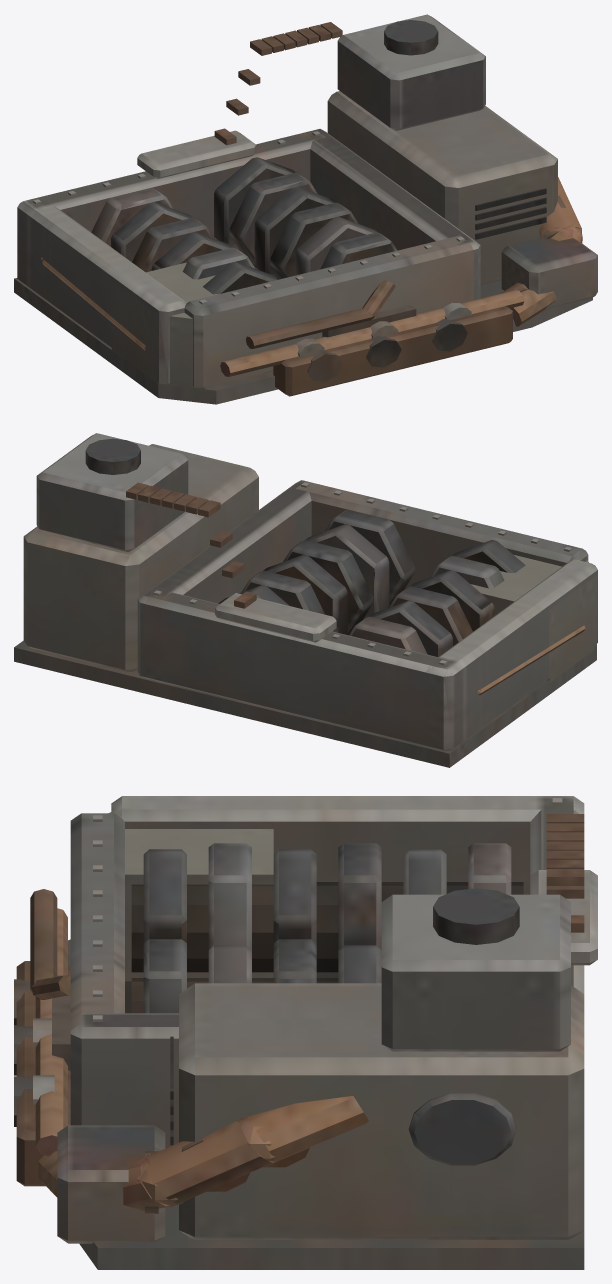
The model's file is crusher-east.glb.
3 views of the same model, one above another, from view 1: azimuth 30°, elevation 25°; view 2: azimuth 150°, elevation 25°; view 3: azimuth 270°, elevation 25° (orthographic). The views are drawn at different scales.
Visible parts, largest first — view 1: body, anim_roll_crusher_e, anim_roll_crusher_w; view 2: body, anim_roll_crusher_e, anim_roll_crusher_w; view 3: body, anim_roll_crusher_w, anim_roll_crusher_e.
Part boxes in pixels (bbox=[...]): body: bbox=[14, 14, 597, 404]; anim_roll_crusher_e: bbox=[214, 157, 397, 279]; anim_roll_crusher_w: bbox=[91, 188, 277, 294]; body: bbox=[14, 433, 597, 767]; anim_roll_crusher_e: bbox=[218, 509, 414, 635]; anim_roll_crusher_w: bbox=[349, 540, 525, 657]; body: bbox=[14, 796, 597, 1269]; anim_roll_crusher_w: bbox=[131, 843, 523, 972]; anim_roll_crusher_e: bbox=[131, 939, 381, 1013].
Bounding box in the file's own units: 3.01 × 1.28 × 2.16.
Materials: 1 (1 with a texture image).
